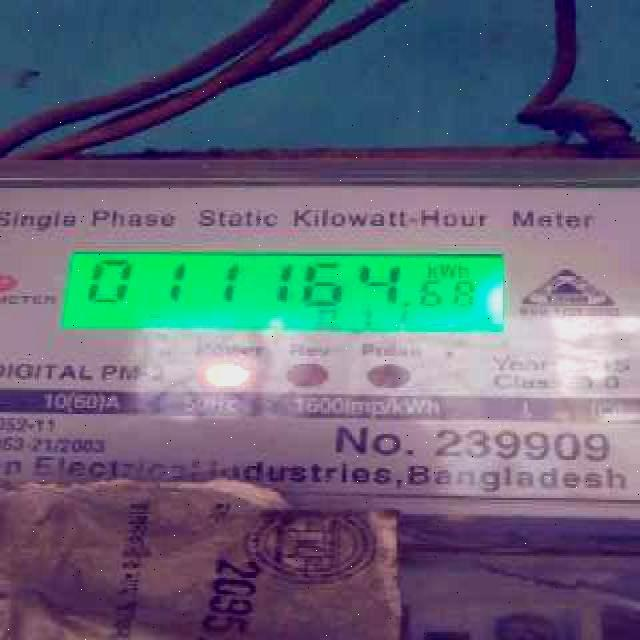LCD: (45, 240, 518, 354)
